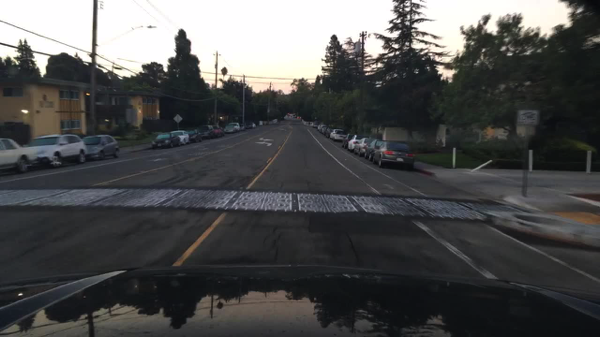car: (22, 134, 86, 169), (0, 138, 37, 175), (374, 141, 414, 169), (83, 134, 119, 160), (151, 132, 180, 151), (354, 137, 377, 157), (364, 141, 386, 161), (348, 135, 365, 155), (171, 131, 191, 147), (196, 126, 214, 140), (186, 130, 202, 145), (330, 129, 346, 142), (343, 135, 355, 150), (213, 126, 224, 138), (324, 126, 334, 139), (229, 122, 240, 133), (224, 125, 235, 134), (317, 125, 326, 133), (246, 121, 255, 129), (312, 121, 319, 128), (240, 123, 246, 130), (322, 126, 327, 134), (306, 122, 311, 128)
traffic sign: (515, 110, 540, 125), (173, 114, 183, 124)
